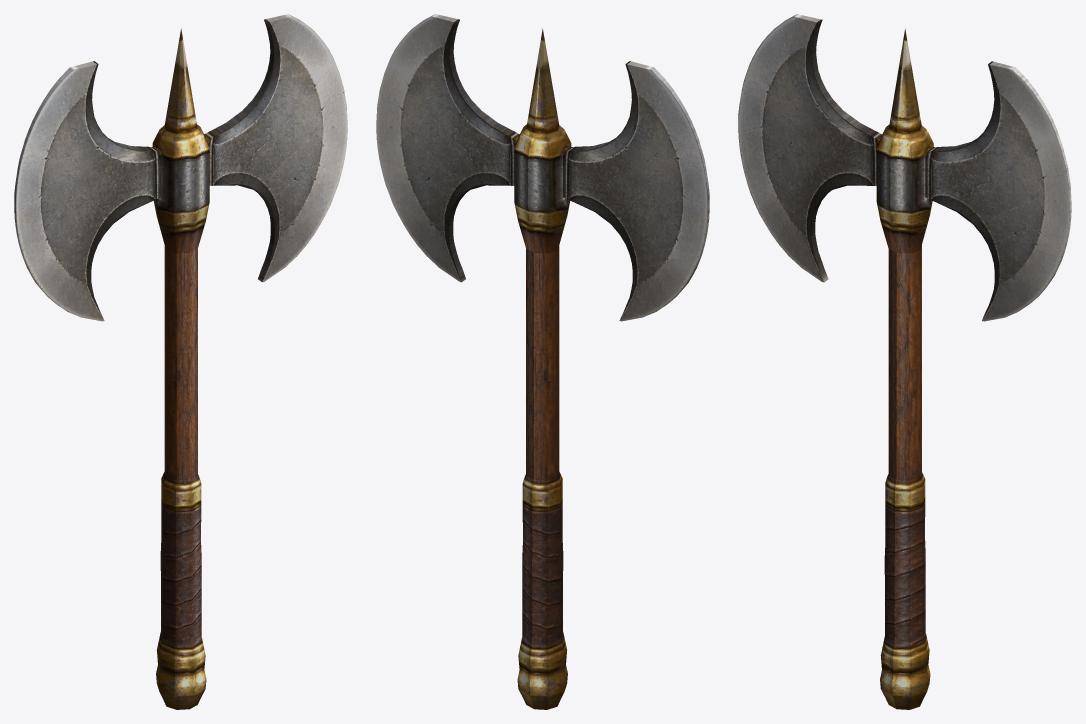
The model's file is mm7_m190_axe.glb.
The picture shows the model from 3 angles, left to right: view 1: azimuth 30°, elevation 25°; view 2: azimuth 150°, elevation 25°; view 3: azimuth 330°, elevation 25°; orthographic projection.
Visible parts, largest first — view 1: Sword; view 2: Sword; view 3: Sword.
Part boxes in pixels (left/top/right/bottom): Sword: left=14, top=14, right=347, bottom=709; Sword: left=376, top=14, right=709, bottom=709; Sword: left=738, top=14, right=1071, bottom=709.
Size of the model in its own units: 0.3589 by 0.7 by 0.0553.
Materials: 1 (1 with a texture image).
